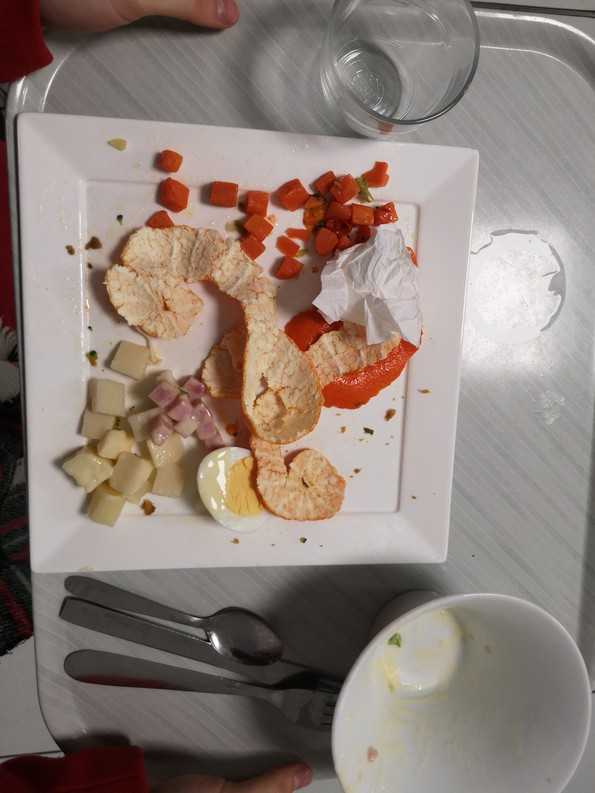orga: (119, 219, 284, 348), (73, 348, 182, 527), (199, 345, 393, 442), (278, 165, 411, 235), (255, 438, 351, 520), (203, 437, 277, 524)
trash: (320, 236, 438, 351)
